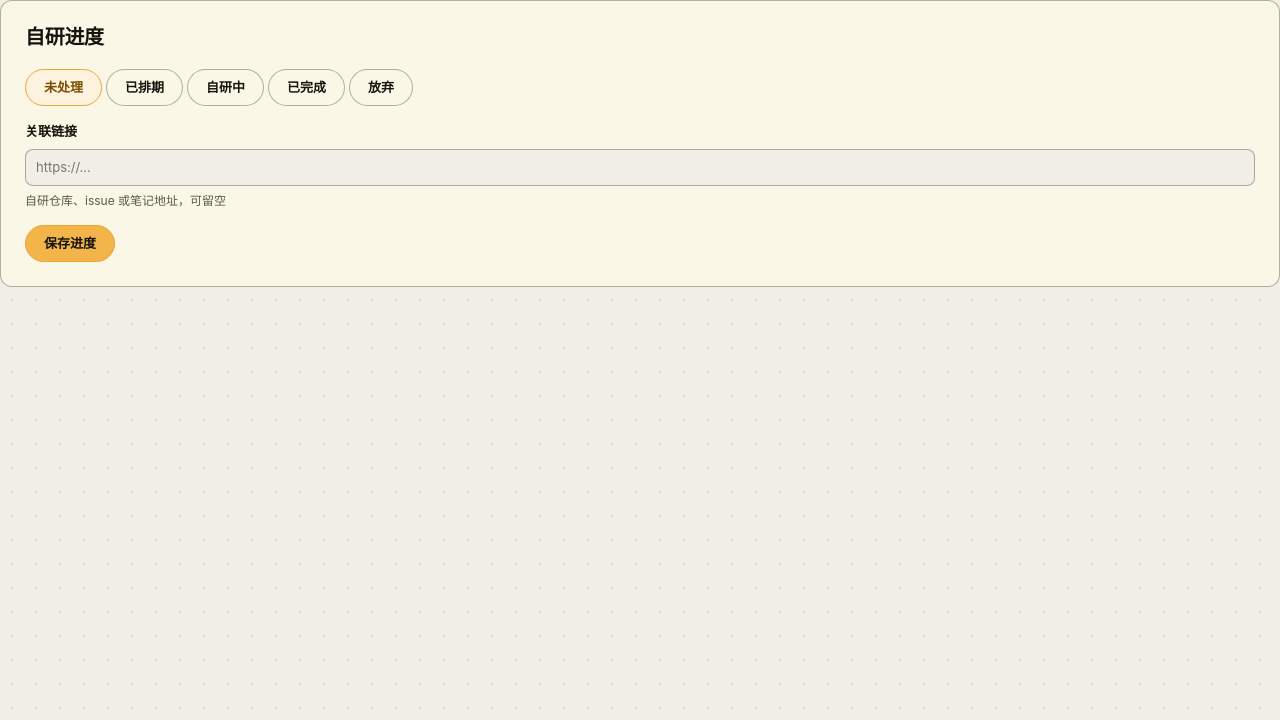
Scenario: ProgressControl › shows a conflict message and freezes the control
Click the button "已完成": [306, 87] box x1=268 y1=69 x2=345 y2=106
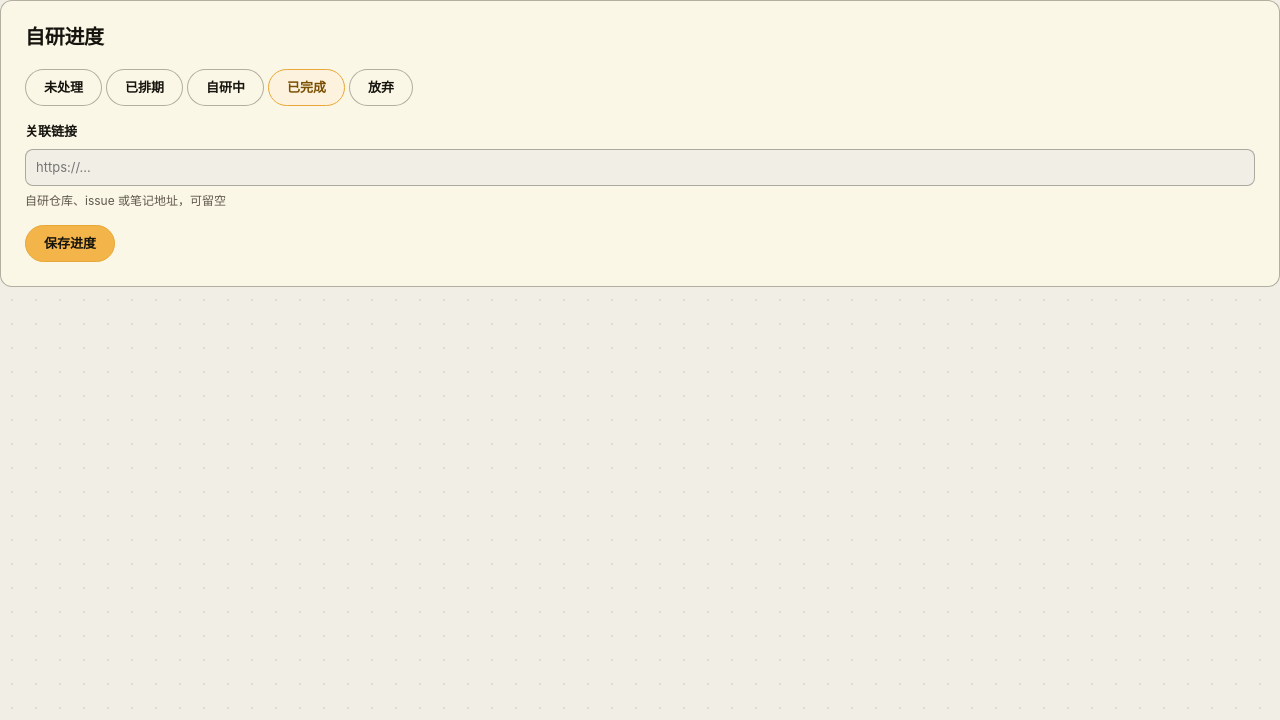
Click the button "保存进度": [70, 243] box x1=25 y1=225 x2=115 y2=262
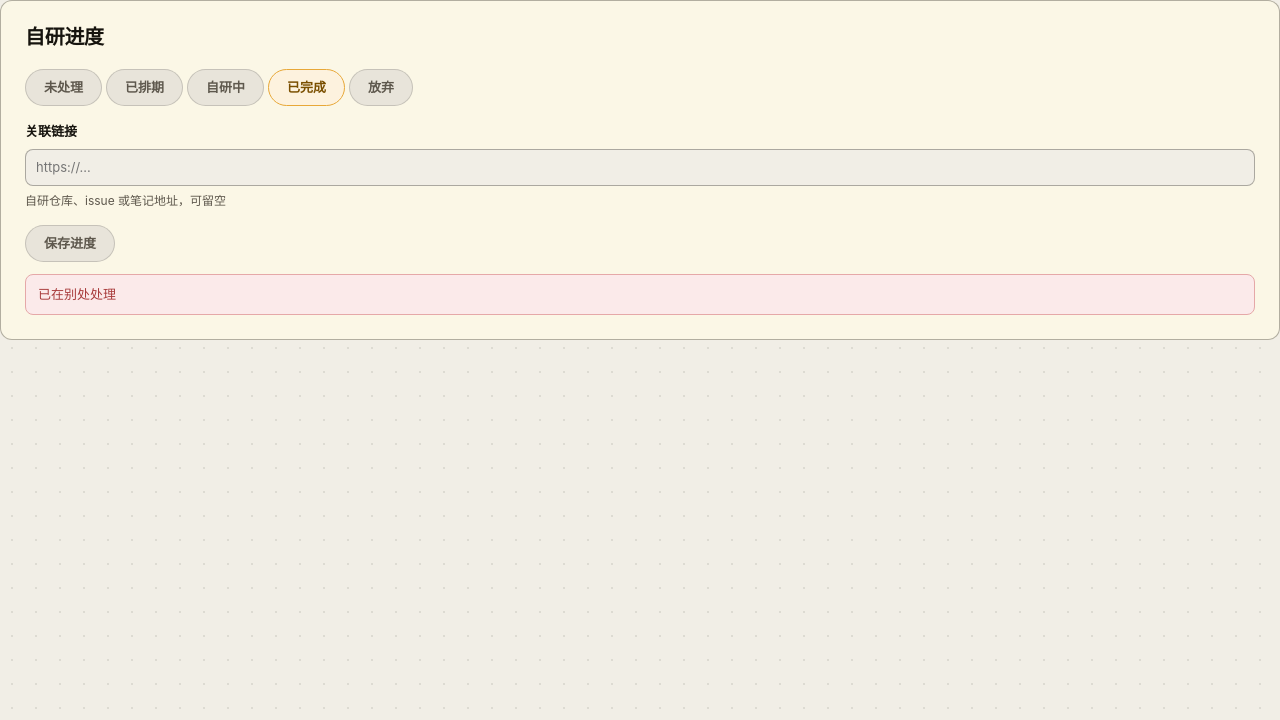
Expected: the text "已在别处处理" is shown, x1=25 y1=274 x2=1255 y2=315
Expected: the button "保存进度" is disabled, x1=25 y1=225 x2=115 y2=262
Expected: the button "已排期" is disabled, x1=106 y1=69 x2=183 y2=106
